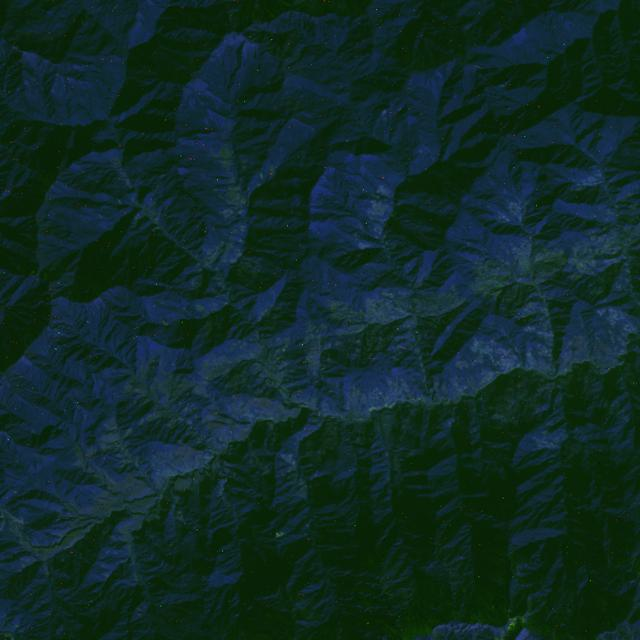landslides: (449, 510, 464, 531), (146, 188, 157, 211), (275, 528, 295, 538), (461, 255, 482, 264), (134, 213, 146, 228), (454, 379, 465, 395), (380, 531, 395, 542), (359, 241, 377, 249), (52, 532, 66, 540), (229, 9, 241, 18)
